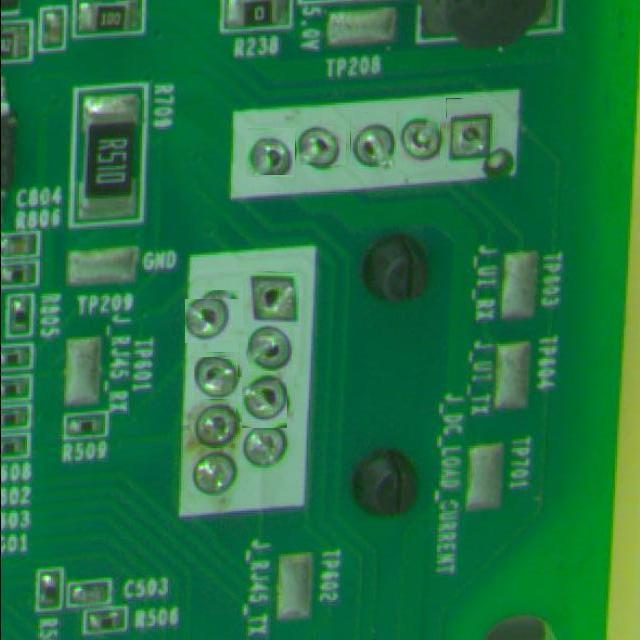lack_of_part: (446, 98, 498, 168), (243, 272, 298, 327), (190, 294, 243, 348), (239, 374, 291, 425), (350, 112, 394, 172), (396, 110, 440, 170), (246, 325, 294, 374), (247, 129, 295, 176), (299, 122, 344, 168), (195, 356, 238, 399), (192, 408, 239, 444)
